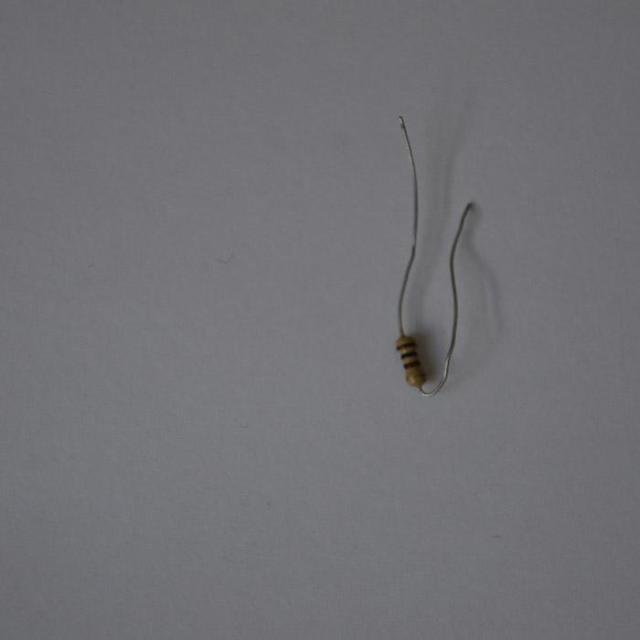capacitor: (390, 335, 431, 389)
